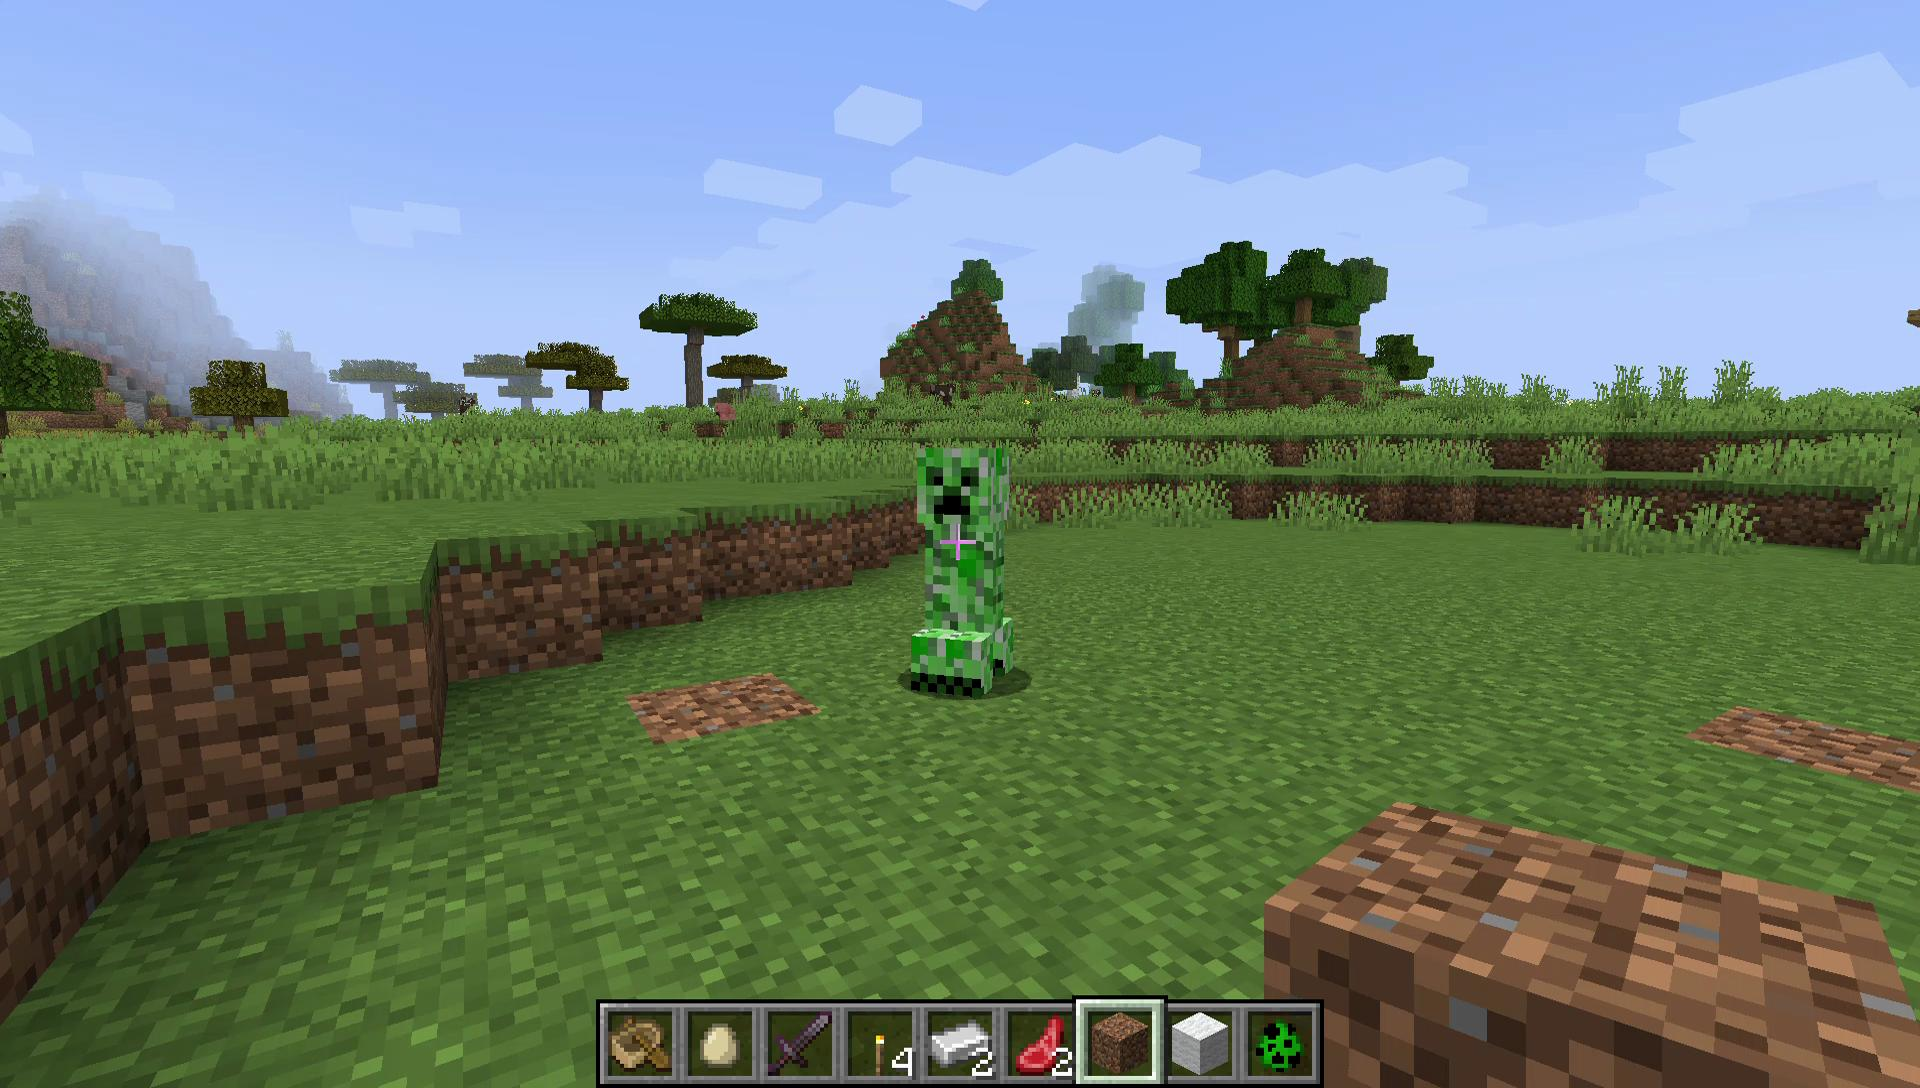cow: (930, 381, 960, 405), (456, 393, 481, 421)
creeper: (903, 438, 1019, 703)
pig: (713, 398, 738, 425)
